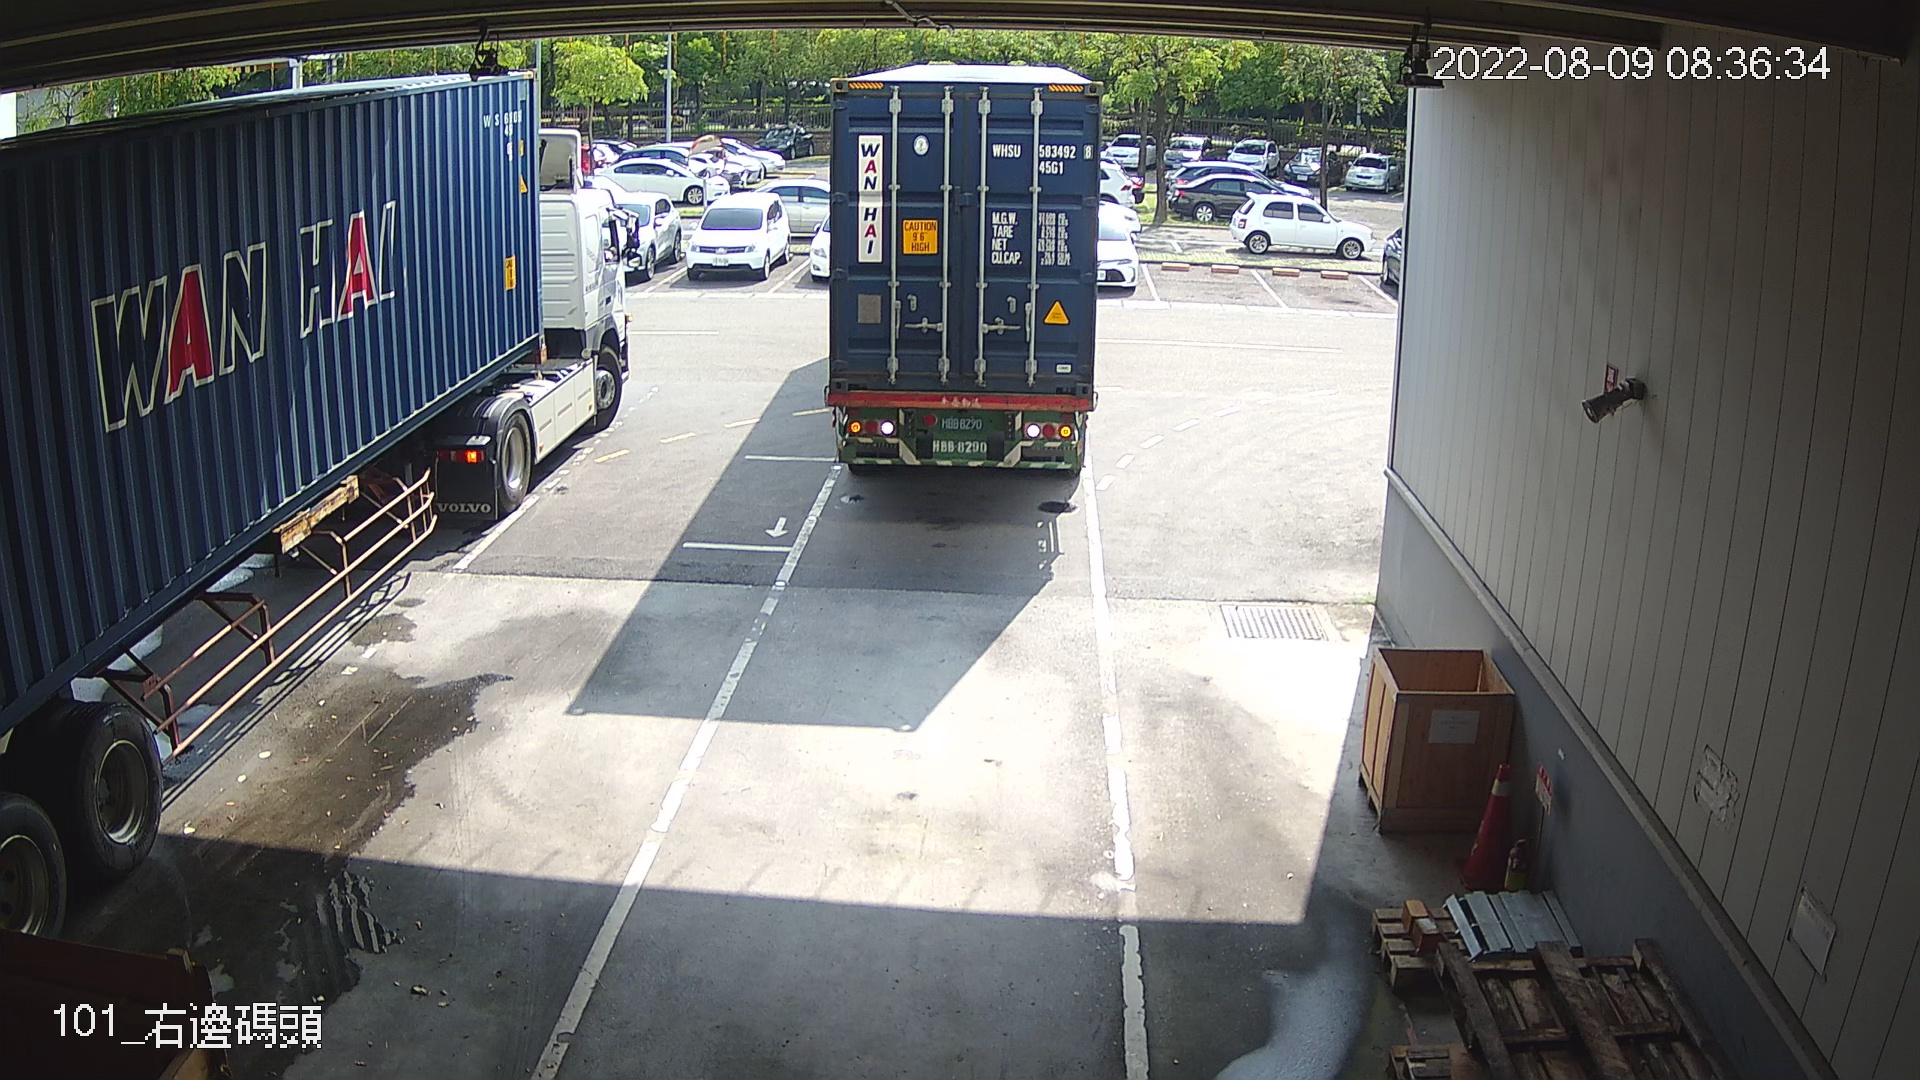container: (986, 133, 1097, 183)
